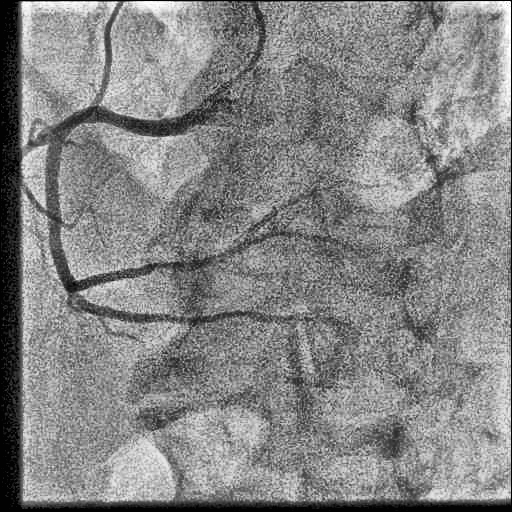pborca: (234, 194, 310, 243)
rca: (44, 106, 250, 292)
